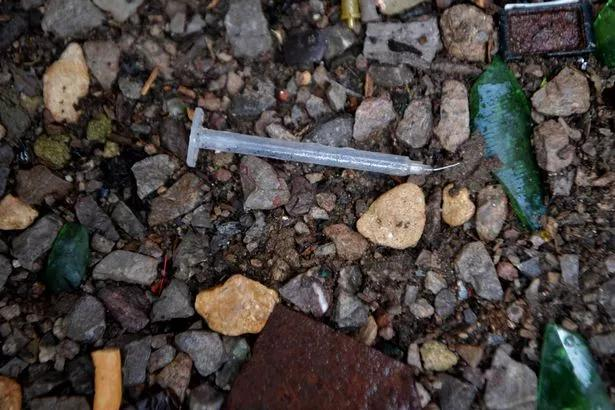Syringe: (187, 108, 456, 175)
